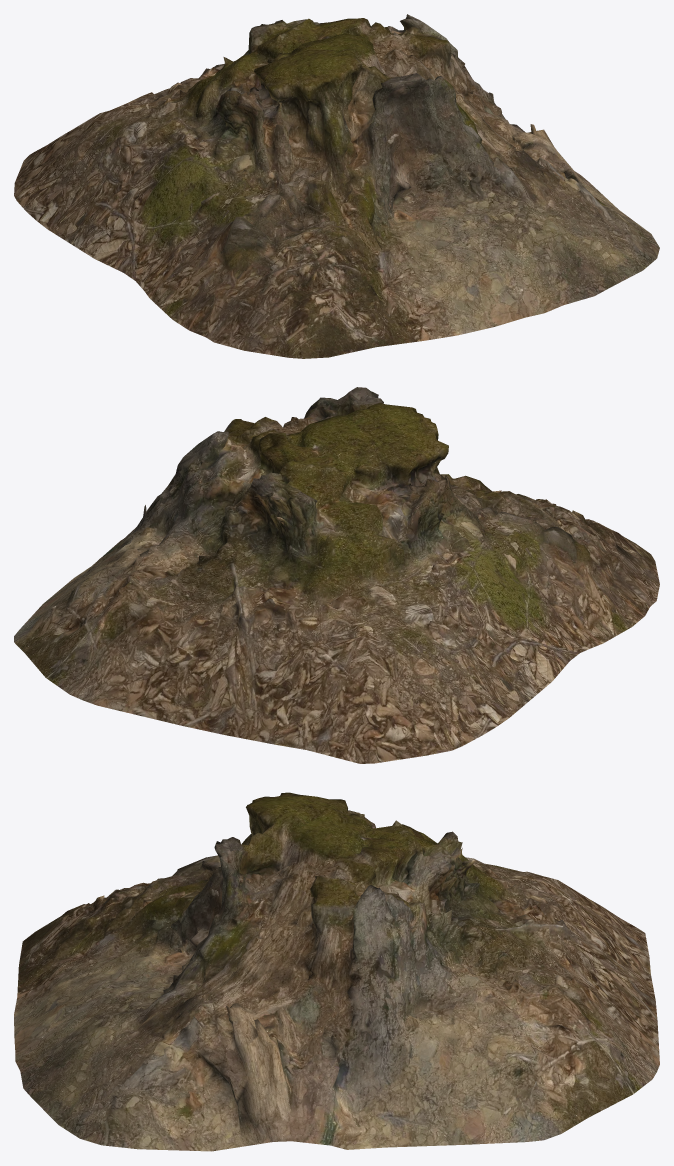
Rendered from stump.glb.
3 renders of one model, top to bottom at view 1: azimuth 30°, elevation 25°; view 2: azimuth 150°, elevation 25°; view 3: azimuth 270°, elevation 25°, orthographic. The views are drawn at different scales.
Parts seen in each view (by area): view 1: tree_stump_01; view 2: tree_stump_01; view 3: tree_stump_01.
Boxes of the visible parts, x1=… form: tree_stump_01: x1=14, y1=14, x2=659, y2=358; tree_stump_01: x1=14, y1=387, x2=659, y2=763; tree_stump_01: x1=14, y1=792, x2=659, y2=1151.
Size of the model in its own units: 1.43 by 0.571 by 1.59.
1 material, 1 textured.
